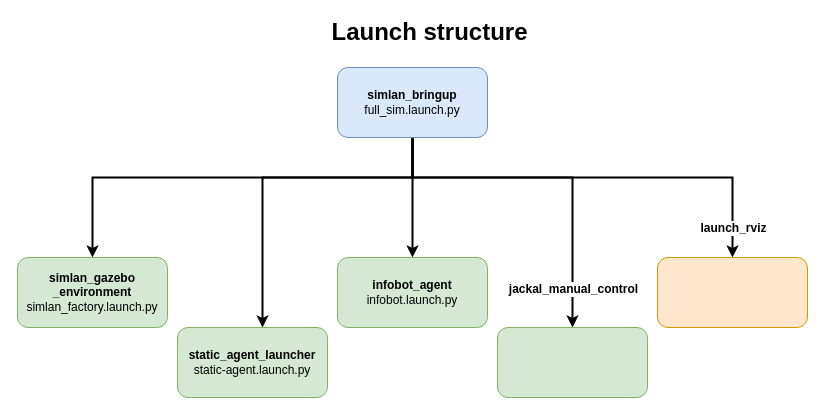
Some shapes in this 825 by 415 pixel diagram are drawn without their labels. Here are the shapes that lost their labels. From the top down, the box of each, then its label:
(656, 256, 808, 328): rviz2
(496, 326, 648, 398): dyno_jackal_bringup sim.launch.py
